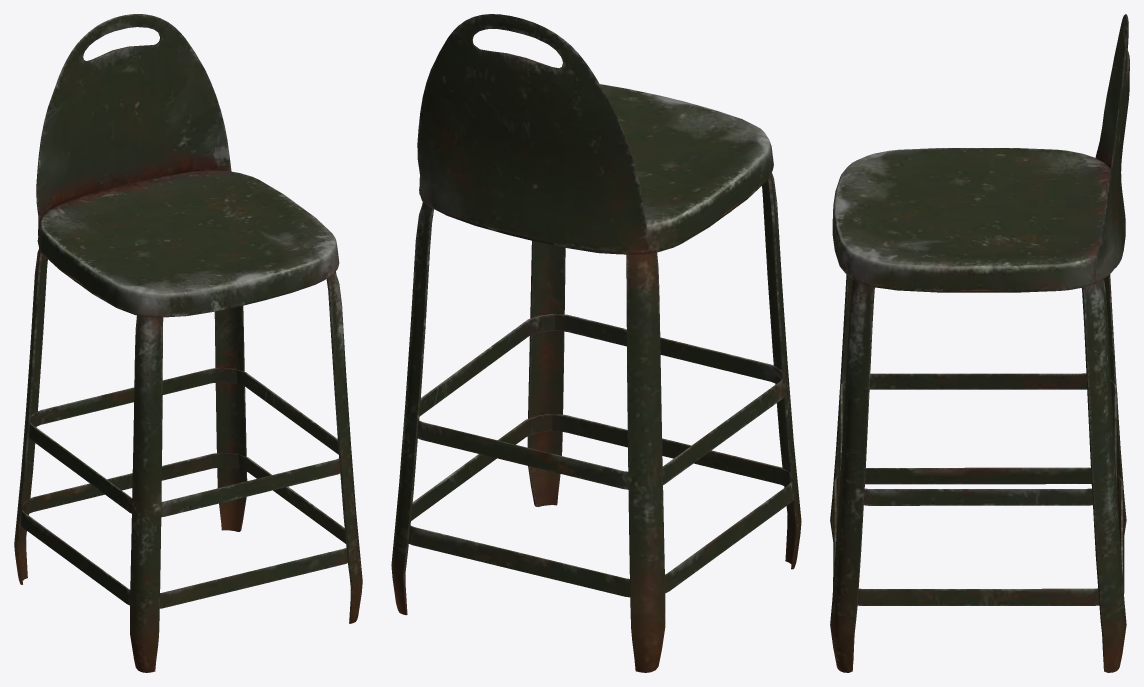
The model's file is metal_stool_03.glb.
3 views of the same model, side by side, from view 1: azimuth 30°, elevation 25°; view 2: azimuth 150°, elevation 25°; view 3: azimuth 270°, elevation 25° (orthographic). The views are drawn at different scales.
Visible parts, largest first — view 1: metal_stool_03; view 2: metal_stool_03; view 3: metal_stool_03.
Part boxes in pixels (<box>): metal_stool_03: <box>14,14,362,672</box>; metal_stool_03: <box>391,14,801,672</box>; metal_stool_03: <box>830,14,1129,672</box>.
Size of the model in its own units: 0.4606 by 1.02 by 0.4704.
Materials: 1 (1 with a texture image).
